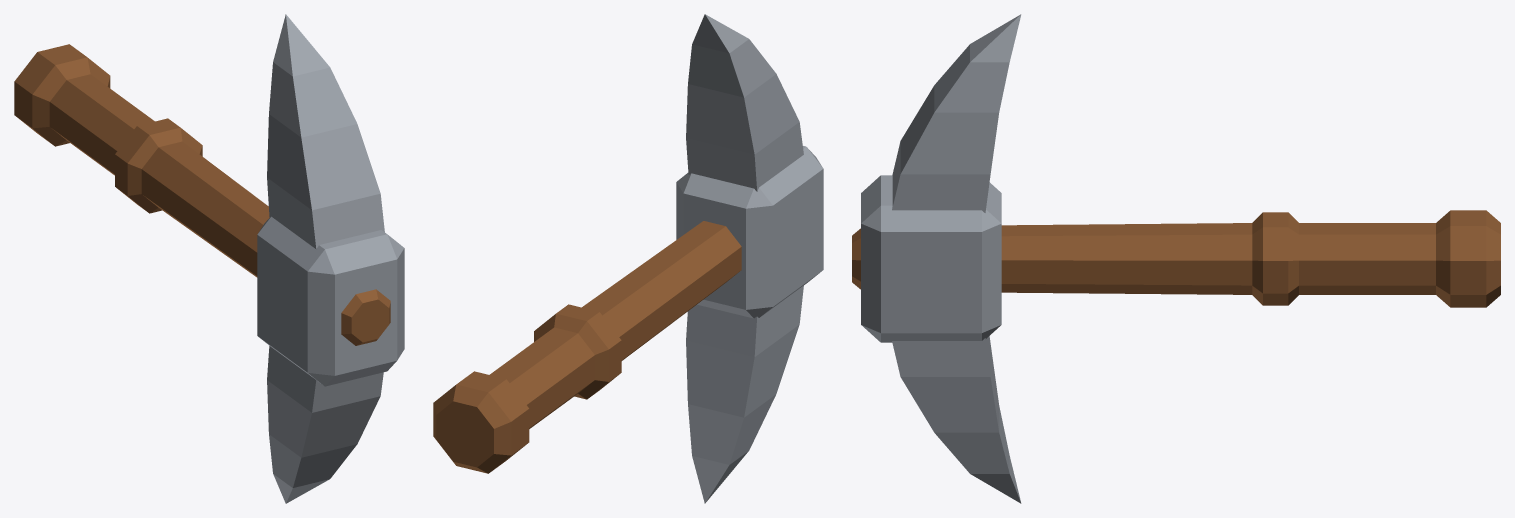
The model's file is TOOL_Pickaxe.fbx.
3 renders of one model, left to right at view 1: azimuth 30°, elevation 25°; view 2: azimuth 150°, elevation 25°; view 3: azimuth 270°, elevation 25°, orthographic.
Visible parts, largest first — view 1: Head, Handle; view 2: Head, Handle; view 3: Head, Handle.
Part boxes in pixels (left/top/right/bottom): Head: left=257, top=14, right=404, bottom=503; Handle: left=14, top=44, right=390, bottom=345; Head: left=676, top=14, right=823, bottom=503; Handle: left=433, top=221, right=741, bottom=473; Head: left=861, top=14, right=1021, bottom=503; Handle: left=852, top=210, right=1500, bottom=307.
Bounding box in the file's own units: 0.62 × 3 × 3.6.
